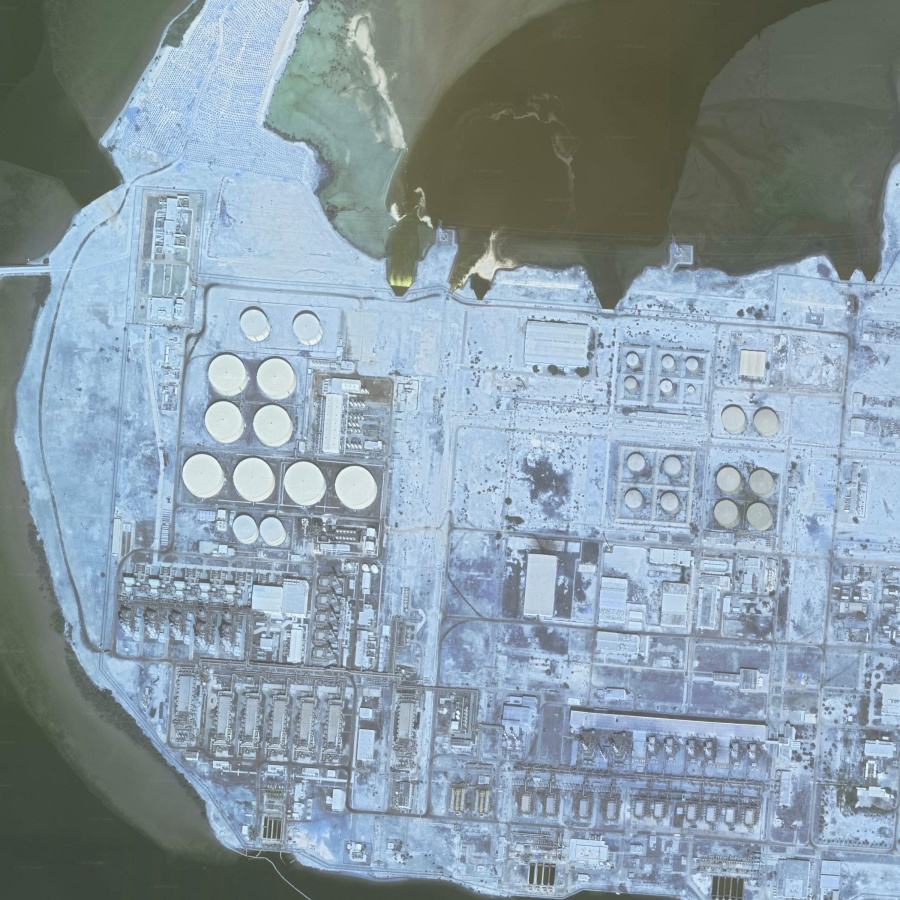PowerPlant: (110, 294, 410, 683)
